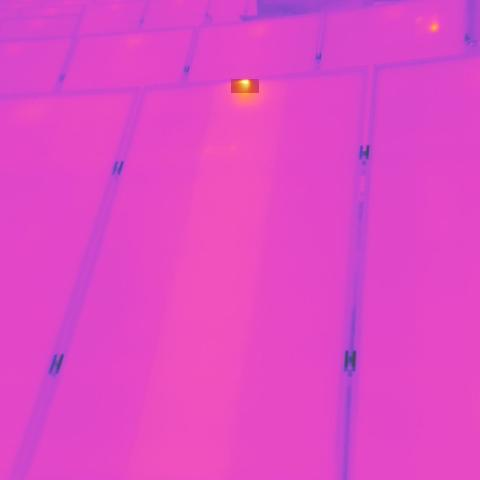fault: (232, 80, 260, 94)
